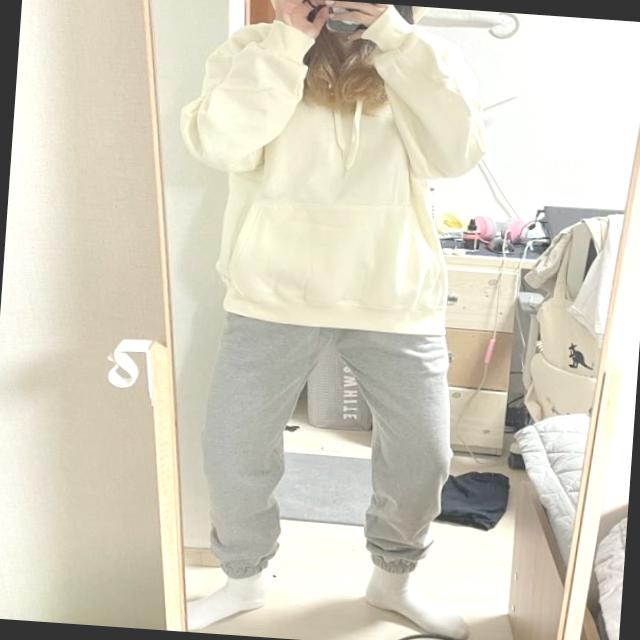hoodies: (166, 0, 495, 336)
trainingpants: (192, 308, 460, 588)
